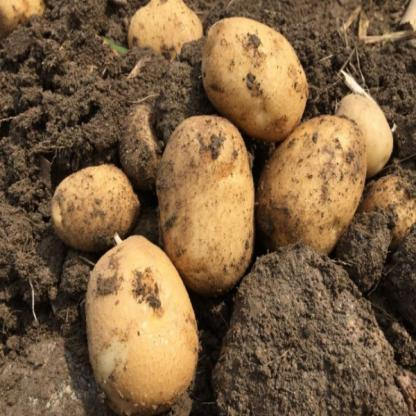potato: (67, 231, 198, 416), (150, 105, 264, 292), (189, 0, 320, 162), (263, 110, 367, 267), (50, 144, 143, 248), (129, 0, 214, 67)
